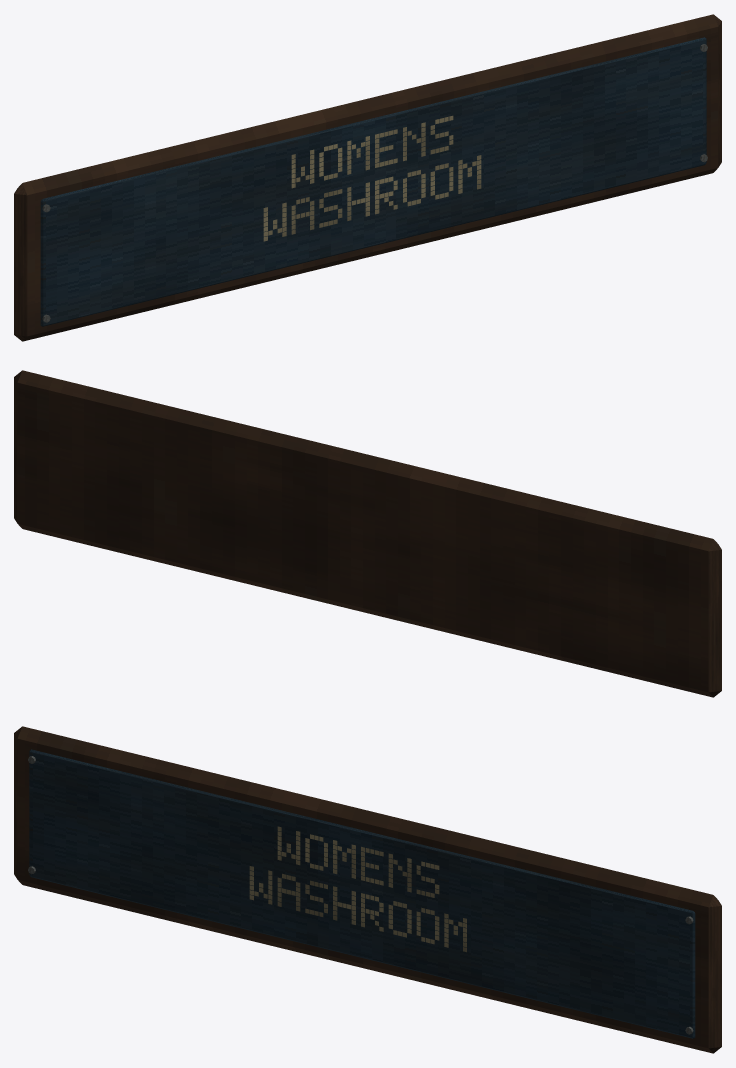
The model's file is level_sign_womens_worn.glb.
The picture shows the model from 3 angles, top to bottom: view 1: azimuth 30°, elevation 25°; view 2: azimuth 150°, elevation 25°; view 3: azimuth 330°, elevation 25°; orthographic projection.
Parts seen in each view (by area): view 1: level_sign_womens_worn; view 2: level_sign_womens_worn; view 3: level_sign_womens_worn.
Part boxes in pixels (x1=…): level_sign_womens_worn: x1=14, y1=14, x2=721, y2=341; level_sign_womens_worn: x1=14, y1=370, x2=721, y2=697; level_sign_womens_worn: x1=14, y1=726, x2=721, y2=1053.
Bounding box in the file's own units: 1.68 × 0.36 × 0.053.
Materials: 4 (4 with a texture image).
